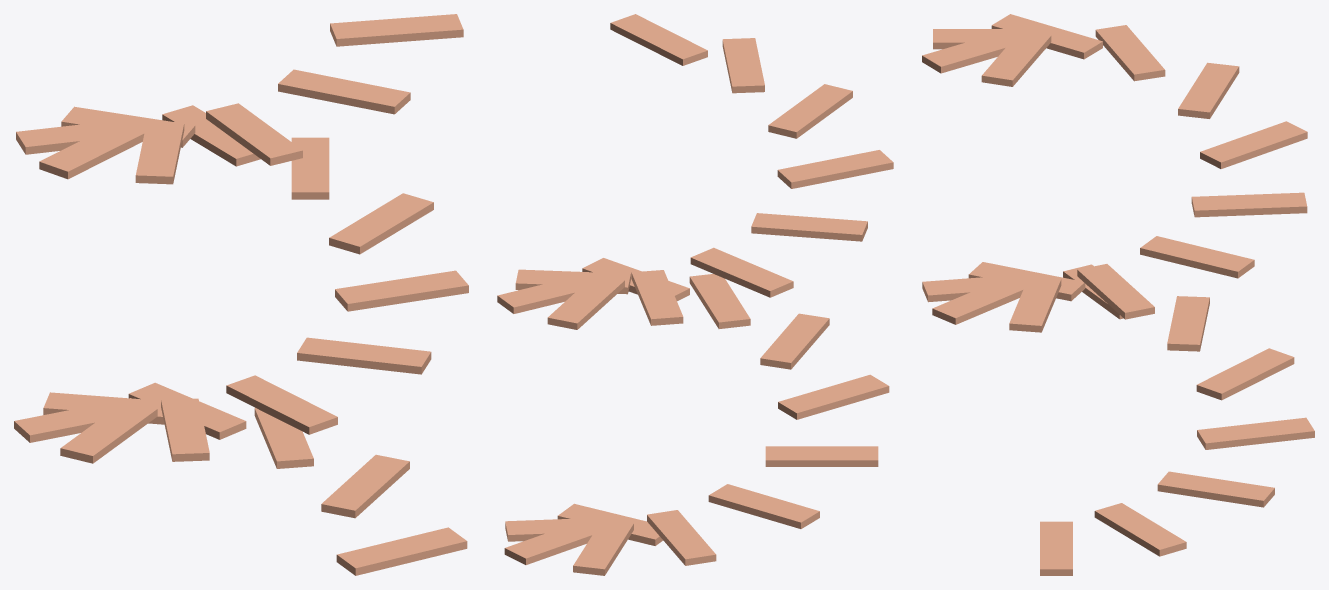
File: Stairspin.fbx
3 views of the same model, side by side, from view 1: azimuth 30°, elevation 25°; view 2: azimuth 150°, elevation 25°; view 3: azimuth 270°, elevation 25° (orthographic). The views are drawn at different scales.
Visible parts, largest first — view 1: 立方體; view 2: 立方體; view 3: 立方體.
Boxes of the visible parts, <box> form: 立方體: <box>14,14,468,575</box>; 立方體: <box>497,14,893,575</box>; 立方體: <box>922,14,1314,575</box>.
Size of the model in its own units: 1851 by 2480 by 1823.
